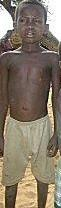Stunting: (11, 2, 53, 54)
